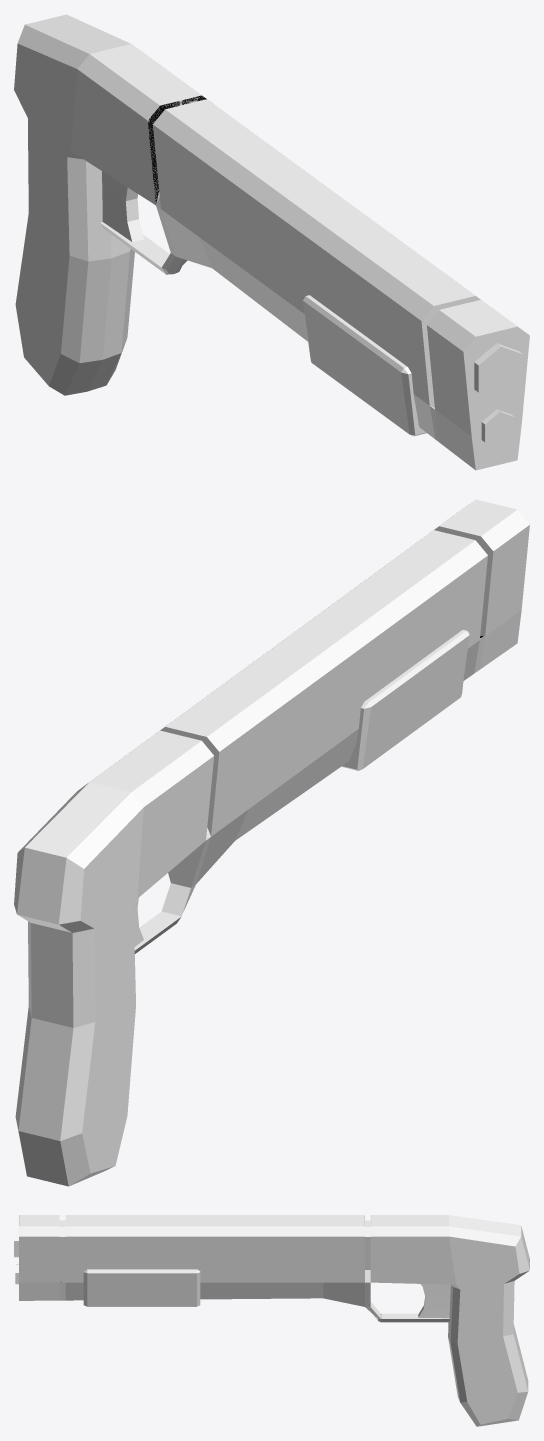
Rendered from LaserShotgun.fbx.
3 renders of one model, top to bottom at view 1: azimuth 30°, elevation 25°; view 2: azimuth 150°, elevation 25°; view 3: azimuth 270°, elevation 25°, orthographic. The views are drawn at different scales.
Visible parts, largest first — view 1: LaserShotgun, Pump, Barrel, Trigger, Barrel2; view 2: LaserShotgun, Pump; view 3: LaserShotgun, Pump, Trigger.
Boxes of the visible parts, left/top/right/bottom form: LaserShotgun: left=14, top=14, right=529, bottom=470; Pump: left=303, top=295, right=426, bottom=436; Barrel: left=474, top=343, right=523, bottom=400; Trigger: left=102, top=171, right=143, bottom=241; Barrel2: left=481, top=409, right=514, bottom=447; LaserShotgun: left=14, top=499, right=529, bottom=1186; Pump: left=341, top=630, right=469, bottom=770; LaserShotgun: left=19, top=1215, right=529, bottom=1426; Pump: left=83, top=1269, right=200, bottom=1306; Trigger: left=418, top=1284, right=450, bottom=1318.
Size of the model in its own units: 3.59 by 18.04 by 42.11.
